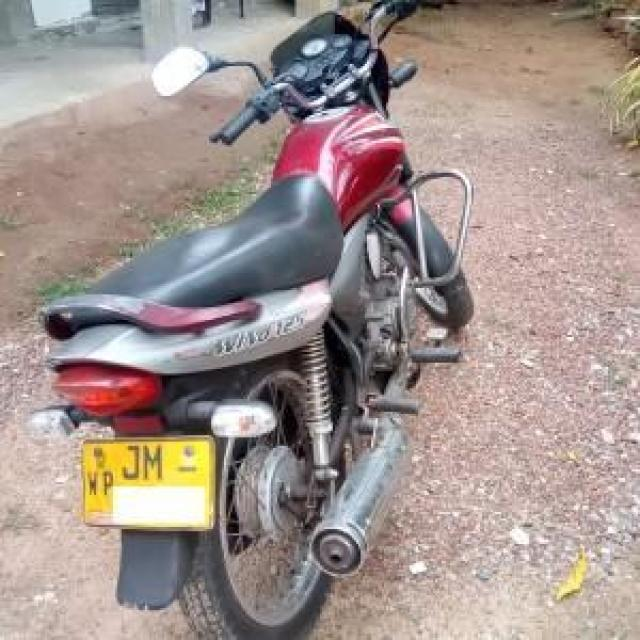motorcycle: (25, 8, 475, 630)
